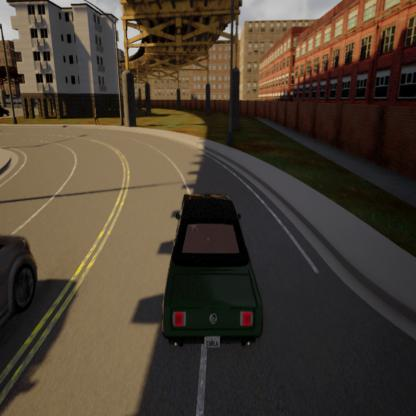Cars: (162, 194, 263, 349), (0, 233, 37, 330)
Pedestrian: (93, 107, 100, 128)
